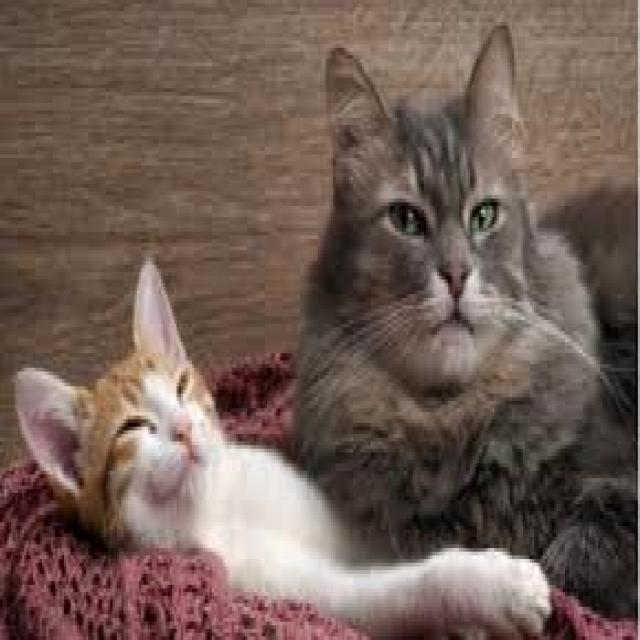Cat: (294, 18, 640, 620), (13, 256, 291, 607)
